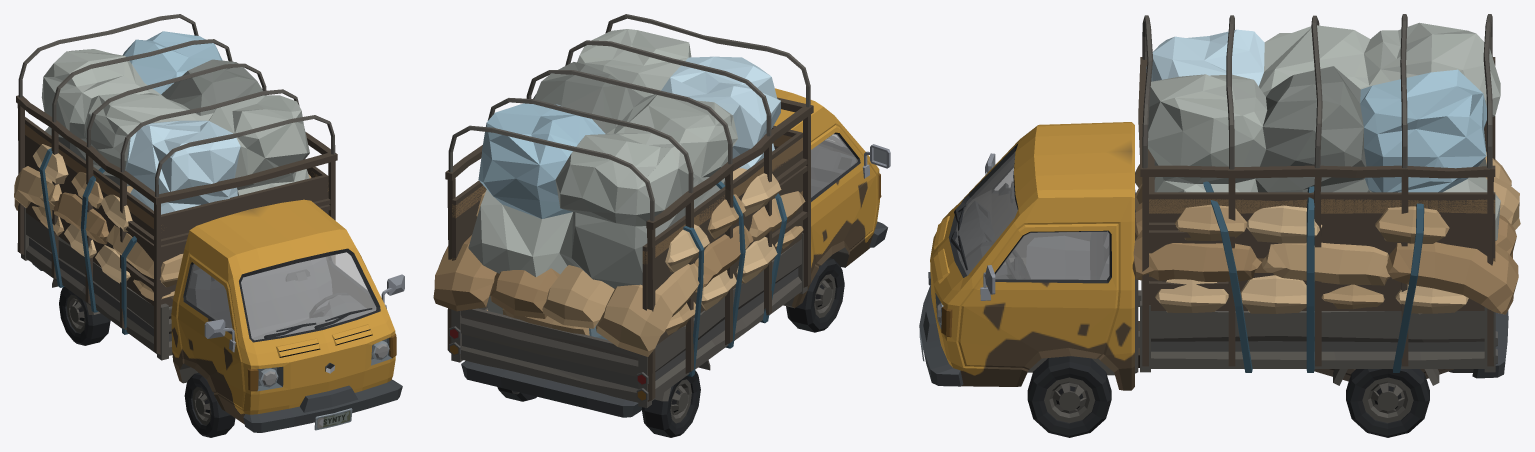
File: SM_Veh_Pickup_Small_01.fbx
3 views of the same model, side by side, from view 1: azimuth 30°, elevation 25°; view 2: azimuth 150°, elevation 25°; view 3: azimuth 270°, elevation 25° (orthographic). The views are drawn at different scales.
Parts seen in each view (by area): view 1: SM_Veh_Pickup_Small_01, SM_Veh_Pickup_Small_01_Glass, SM_Veh_Pickup_Small_01_Wheel_fr, SM_Veh_Pickup_Small_01_Wheel_rr; view 2: SM_Veh_Pickup_Small_01, SM_Veh_Pickup_Small_01_Wheel_fr, SM_Veh_Pickup_Small_01_Wheel_rr, SM_Veh_Pickup_Small_01_Glass; view 3: SM_Veh_Pickup_Small_01, SM_Veh_Pickup_Small_01_Glass, SM_Veh_Pickup_Small_01_Wheel_fl, SM_Veh_Pickup_Small_01_Wheel_rl.
Boxes of the visible parts, x1=… form: SM_Veh_Pickup_Small_01: x1=14, y1=14, x2=404, y2=432; SM_Veh_Pickup_Small_01_Glass: x1=186, y1=252, x2=376, y2=340; SM_Veh_Pickup_Small_01_Wheel_fr: x1=184, y1=372, x2=235, y2=437; SM_Veh_Pickup_Small_01_Wheel_rr: x1=59, y1=287, x2=110, y2=345; SM_Veh_Pickup_Small_01: x1=433, y1=14, x2=890, y2=417; SM_Veh_Pickup_Small_01_Wheel_fr: x1=786, y1=258, x2=844, y2=332; SM_Veh_Pickup_Small_01_Wheel_rr: x1=641, y1=370, x2=700, y2=437; SM_Veh_Pickup_Small_01_Glass: x1=811, y1=133, x2=857, y2=197; SM_Veh_Pickup_Small_01: x1=919, y1=14, x2=1520, y2=390; SM_Veh_Pickup_Small_01_Glass: x1=955, y1=152, x2=1109, y2=279; SM_Veh_Pickup_Small_01_Wheel_fl: x1=1027, y1=356, x2=1111, y2=437; SM_Veh_Pickup_Small_01_Wheel_rl: x1=1346, y1=369, x2=1429, y2=437.
Size of the model in its own units: 237 by 295 by 472.
